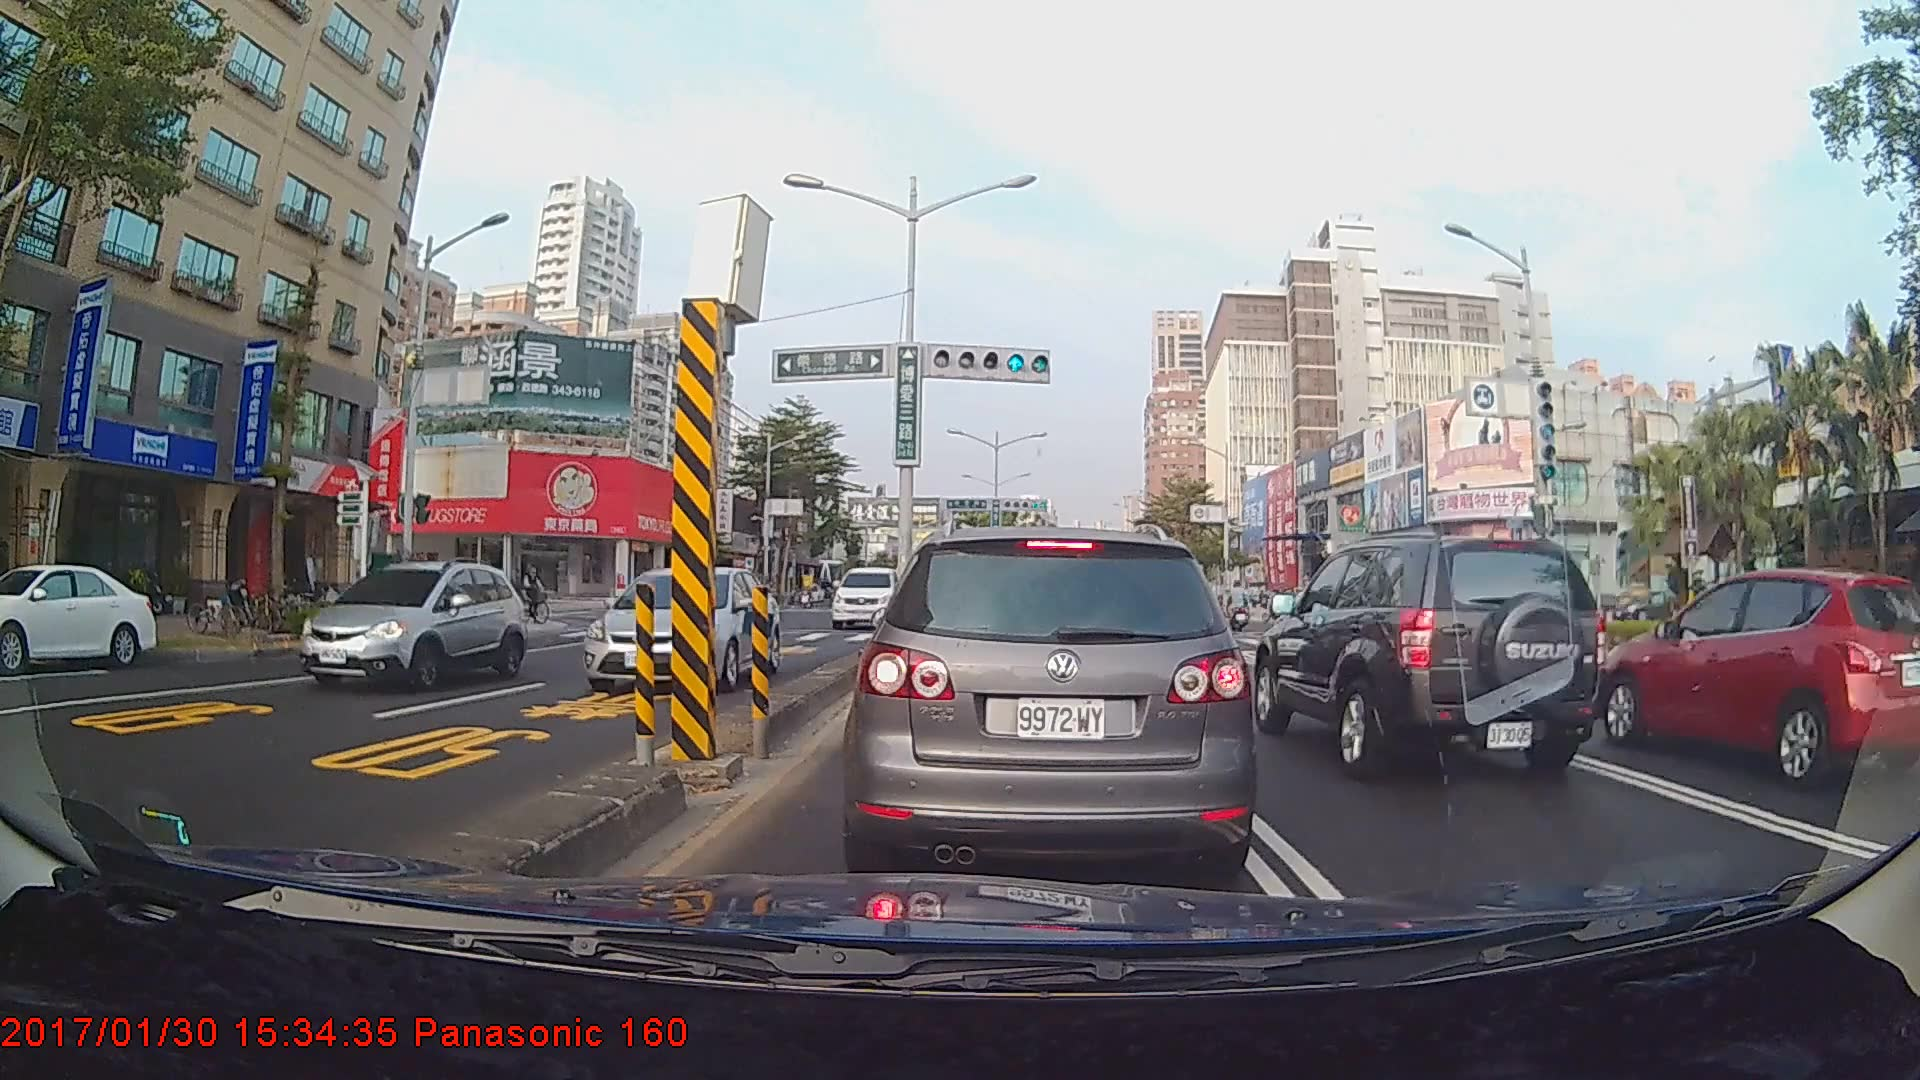vehicle: (853, 524, 1250, 886), (1253, 529, 1607, 782), (1593, 566, 1919, 793), (295, 556, 527, 691), (579, 564, 779, 696), (0, 560, 158, 671), (829, 564, 907, 630)
